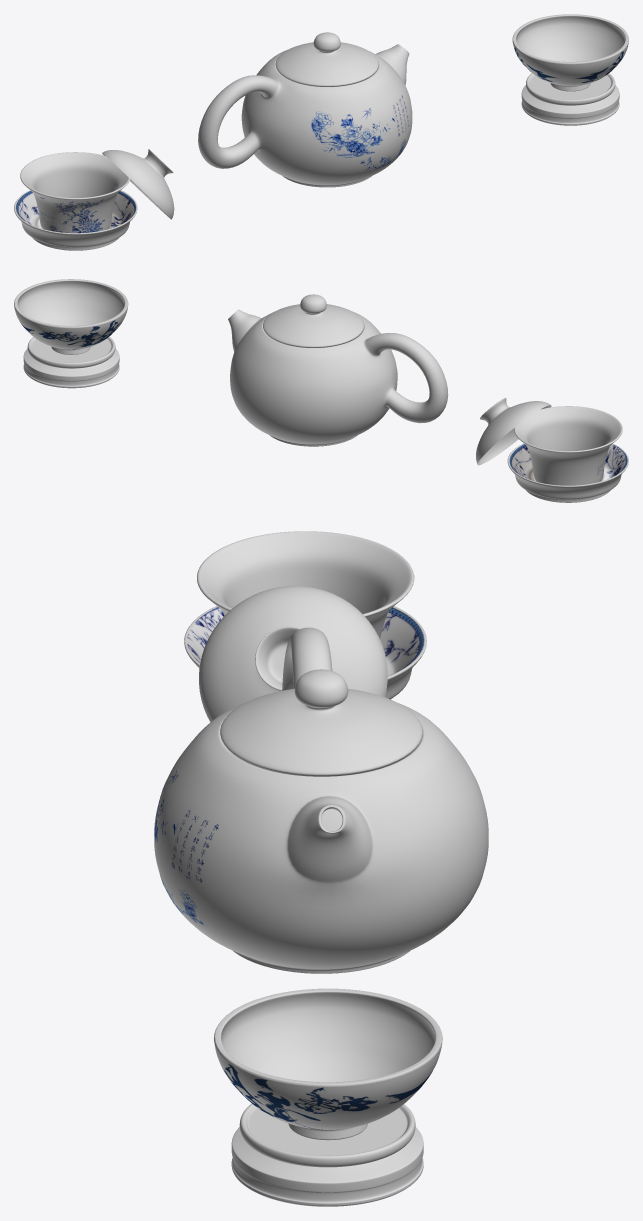
The model's file is MD-明茶壶茶具.fbx.
The picture shows the model from 3 angles, top to bottom: view 1: azimuth 30°, elevation 25°; view 2: azimuth 150°, elevation 25°; view 3: azimuth 270°, elevation 25°; orthographic projection. The views are drawn at different scales.
Parts seen in each view (by area): view 1: MD-明茶壶茶具; view 2: MD-明茶壶茶具; view 3: MD-明茶壶茶具.
Boxes of the visible parts, x1=… form: MD-明茶壶茶具: x1=14, y1=14, x2=628, y2=250; MD-明茶壶茶具: x1=14, y1=279, x2=628, y2=502; MD-明茶壶茶具: x1=154, y1=531, x2=488, y2=1206.
Size of the model in its own units: 0.5347 by 0.1304 by 0.1115.
